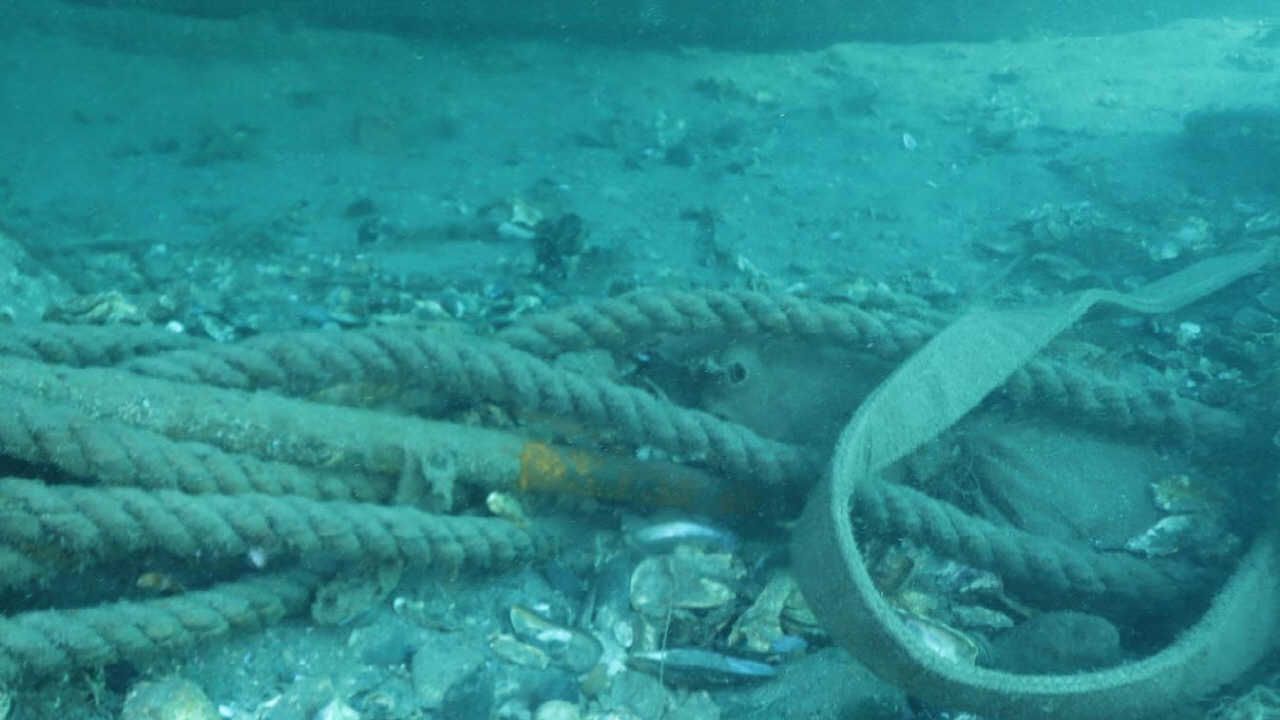bundle of ropes: (0, 276, 1279, 687)
